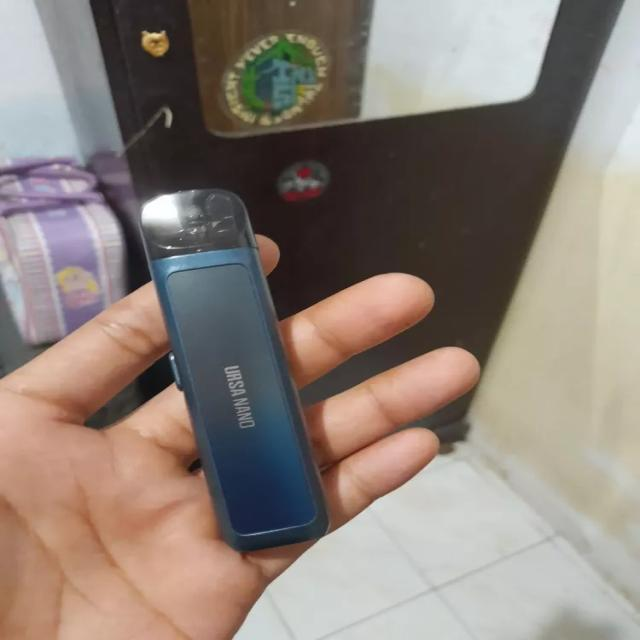Hazard: (134, 182, 333, 549)
